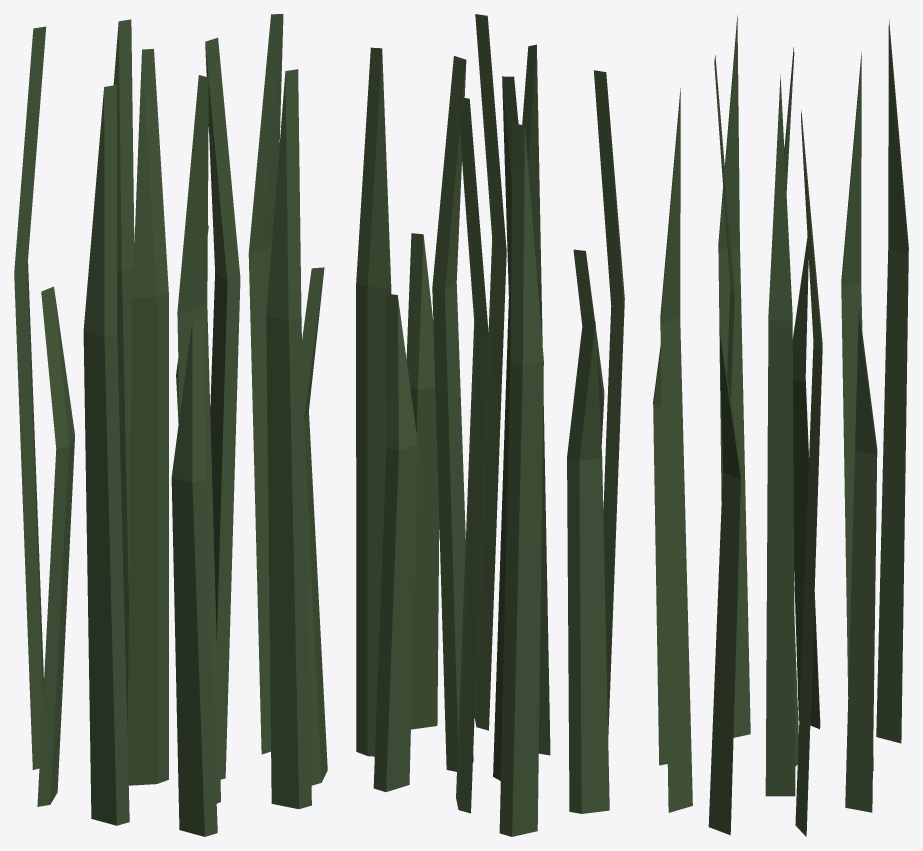
Rendered from Grass_1.gltf.
3 views of the same model, side by side, from view 1: azimuth 30°, elevation 25°; view 2: azimuth 150°, elevation 25°; view 3: azimuth 270°, elevation 25° (orthographic). The views are drawn at different scales.
Visible parts, largest first — view 1: Grass; view 2: Grass; view 3: Grass.
Part boxes in pixels (x1=…): Grass: x1=14, y1=14, x2=327, y2=836; Grass: x1=356, y1=14, x2=624, y2=836; Grass: x1=653, y1=15, x2=908, y2=836.
Bounding box in the file's own units: 0.3738 × 1.01 × 0.3272.
